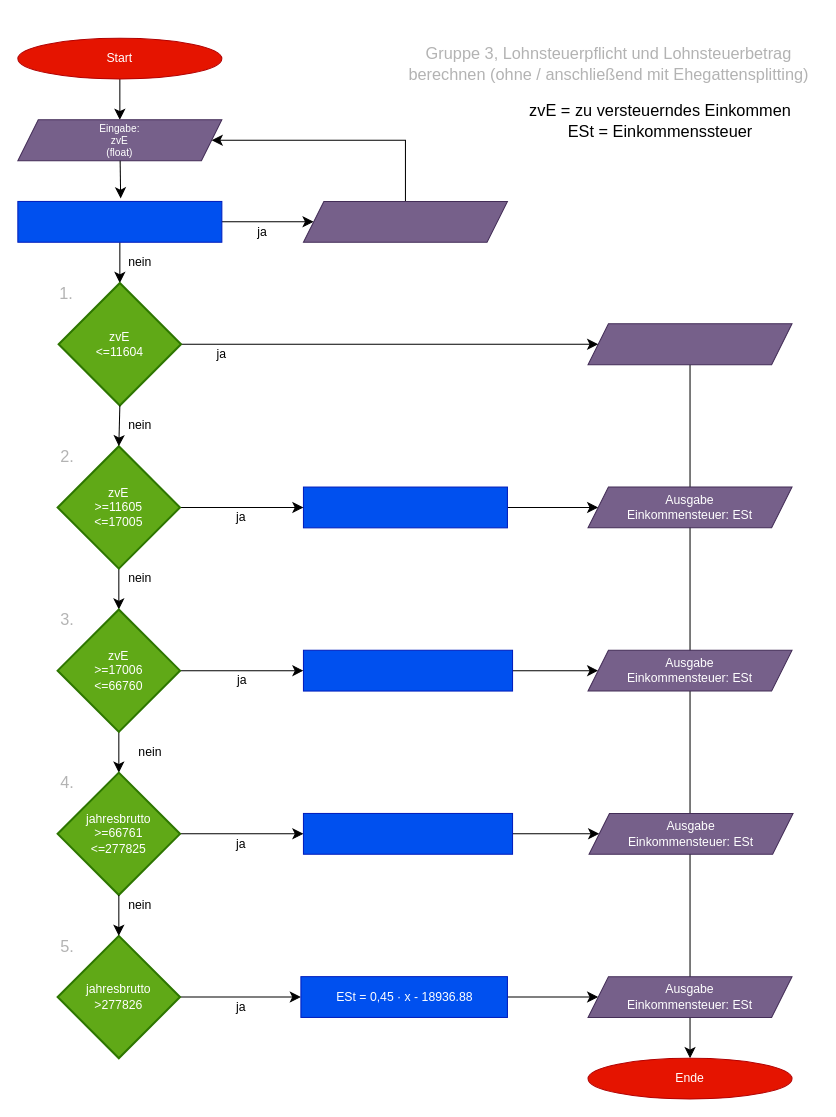
This 836x1117 diagram has some shape labels left out. Here are the shapes that lost their labels. From the top down, the centre of each, then its label:
point (119, 221): zvE<0
point (404, 221): Meldung "Bitte positive Zahlen eingeben"
point (689, 344): Ausgabe "Einkommensteuer = 0"
point (404, 507): y=(zvE -11604 / 10000) ESt = (922.98 * y + 1400) * y
point (407, 670): z = (zvE - 17005) / 10000 ESt =(181.19 * z + 2397) * z + 1025.38
point (407, 833): ESt = 0,42 * zvE - 10602.13
